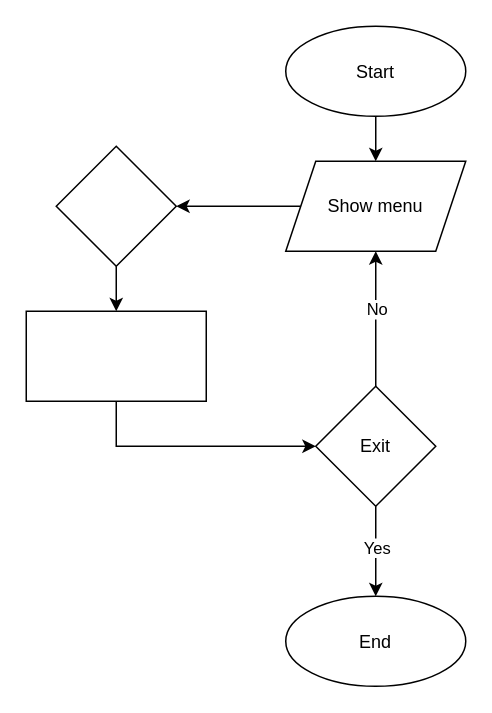
Some shapes in this 492 by 713 pixel diagram are drawn without their labels. The shapes that lost their labels are listed below. From the top down, each one's centre as x and y in pixels, then its label:
At point 115,205: "Select Option".
At point 115,355: "Process Option".
